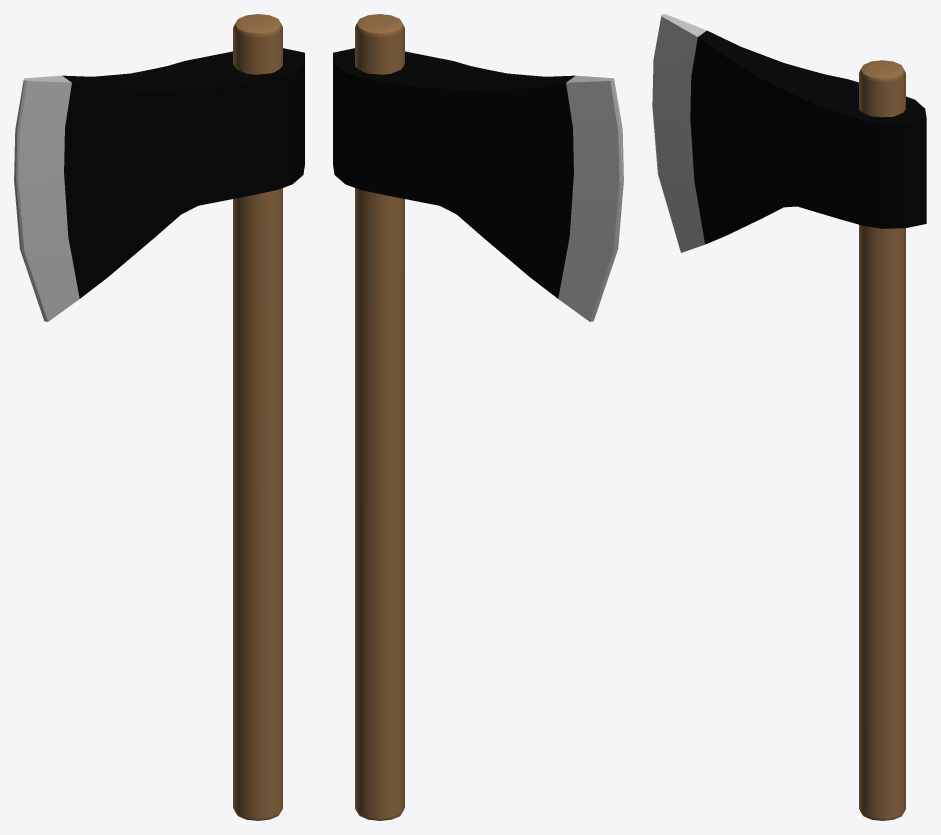
File: Machado.fbx
3 views of the same model, side by side, from view 1: azimuth 30°, elevation 25°; view 2: azimuth 150°, elevation 25°; view 3: azimuth 330°, elevation 25° (orthographic). The views are drawn at different scales.
Visible parts, largest first — view 1: Machado_lamina_Mesh, Machado_cabo_MESH; view 2: Machado_lamina_Mesh, Machado_cabo_MESH; view 3: Machado_lamina_Mesh, Machado_cabo_MESH.
Part boxes in pixels (x1,y1,x2,y2): Machado_lamina_Mesh: [14, 48, 304, 321]; Machado_cabo_MESH: [233, 14, 282, 820]; Machado_lamina_Mesh: [333, 48, 623, 321]; Machado_cabo_MESH: [355, 14, 404, 820]; Machado_lamina_Mesh: [652, 14, 926, 252]; Machado_cabo_MESH: [859, 60, 905, 820].
Bounding box in the file's own units: 32.48 × 84.52 × 7.37.
